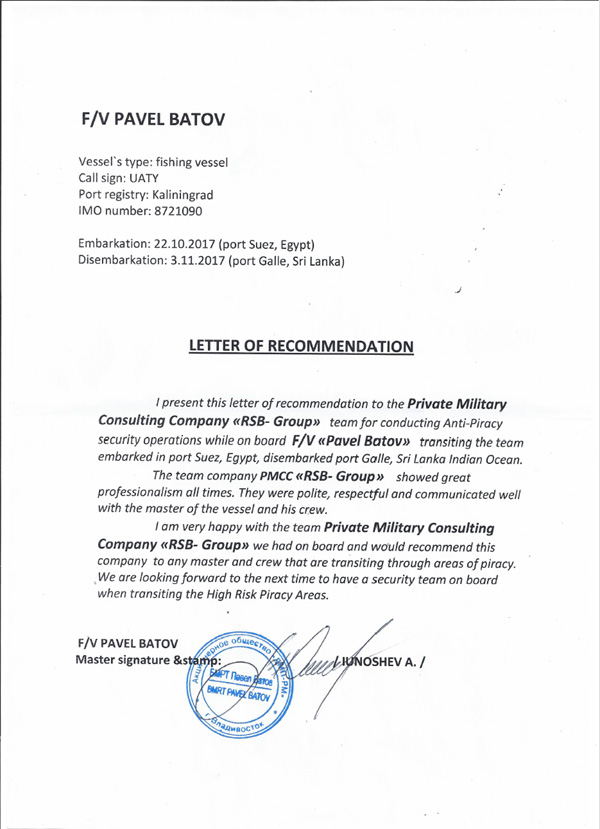Round chop: (184, 628, 295, 744)
